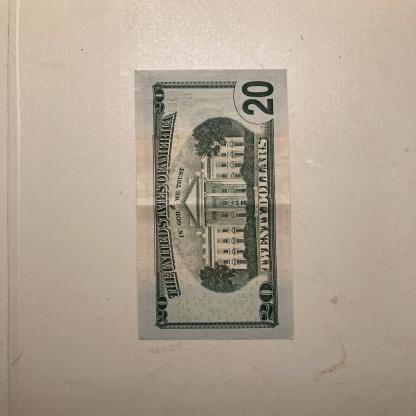twenty-back: (132, 67, 296, 341)
